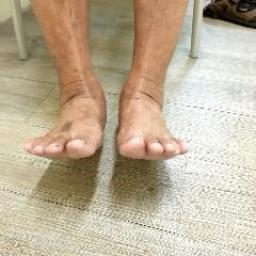Front View -Both Feet-: (12, 45, 206, 188)
